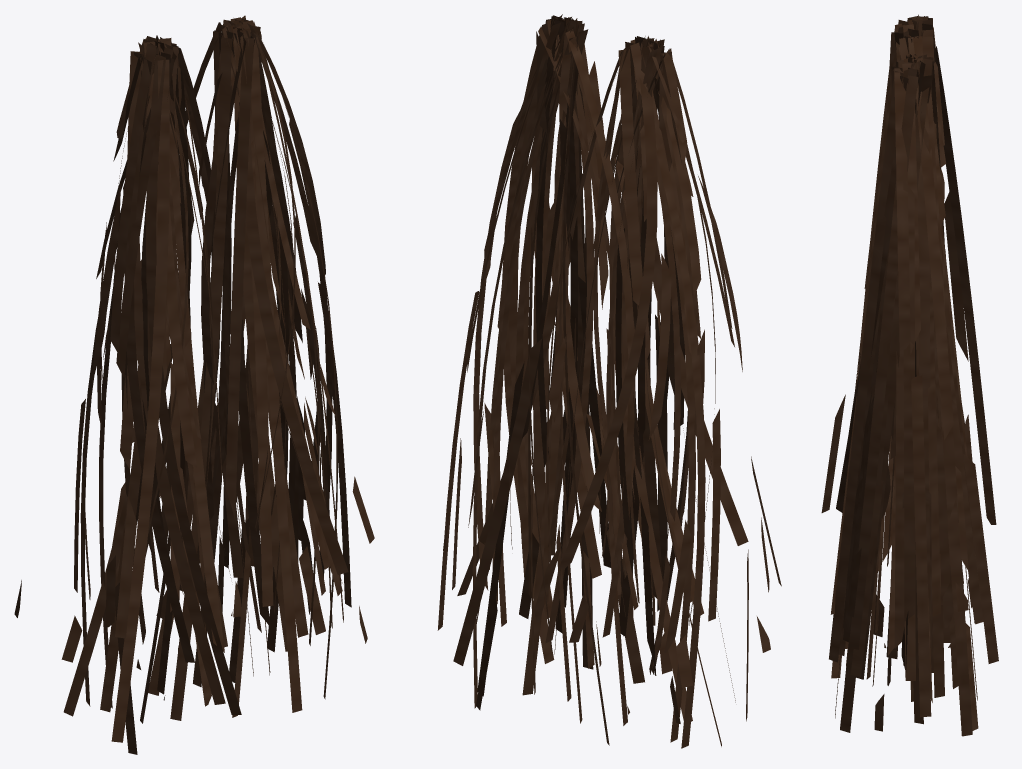
File: test_haircard_v2_300.glb
3 renders of one model, left to right at view 1: azimuth 30°, elevation 25°; view 2: azimuth 150°, elevation 25°; view 3: azimuth 270°, elevation 25°, orthographic. The views are drawn at different scales.
Parts seen in each view (by area): view 1: TestHairCardMesh; view 2: TestHairCardMesh; view 3: TestHairCardMesh.
Part boxes in pixels (box(x1,y1,x2,y2)): TestHairCardMesh: box(14, 15, 374, 754); TestHairCardMesh: box(437, 14, 781, 748); TestHairCardMesh: box(821, 14, 998, 736).
Size of the model in its own units: 0.2362 by 0.4553 by 0.1178.
1 material, 1 textured.
